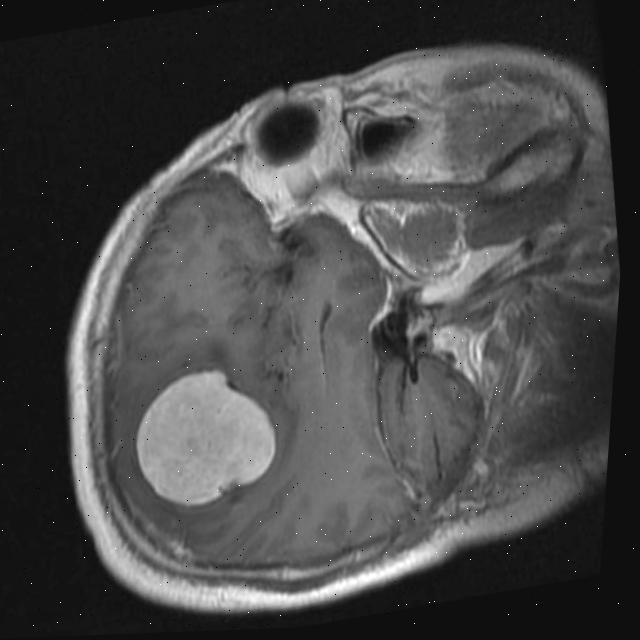Meningioma: (121, 356, 292, 516)
